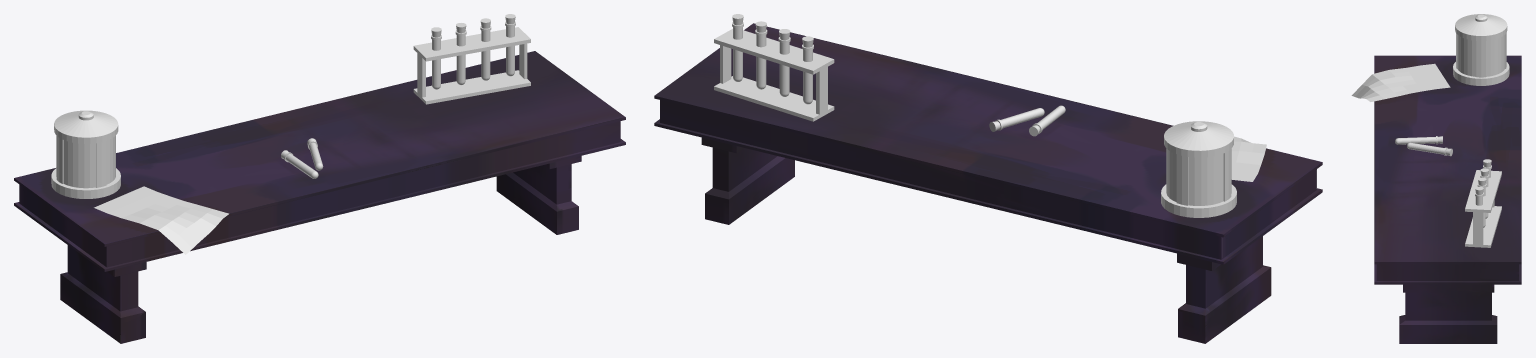
File: jinxcote.glb
3 views of the same model, side by side, from view 1: azimuth 30°, elevation 25°; view 2: azimuth 150°, elevation 25°; view 3: azimuth 270°, elevation 25° (orthographic). The views are drawn at different scales.
Visible parts, largest first — view 1: Cube.006, Cylinder.002, Cube.007, Plane, Sphere; view 2: Cube.006, Cylinder.002, Cube.007, Sphere, Plane, Sphere.001; view 3: Cube.006, Cylinder.002, Plane, Cube.007, Sphere, Sphere.001, Sphere.002.
Boxes of the visible parts, left/top/right/bottom form: Cube.006: left=14, top=51, right=625, bottom=343; Cylinder.002: left=51, top=110, right=120, bottom=198; Cube.007: left=413, top=27, right=530, bottom=104; Plane: left=94, top=186, right=228, bottom=254; Sphere: left=431, top=14, right=515, bottom=89; Cube.006: left=654, top=23, right=1322, bottom=343; Cylinder.002: left=1161, top=121, right=1236, bottom=217; Cube.007: left=714, top=29, right=834, bottom=121; Sphere: left=732, top=14, right=813, bottom=104; Plane: left=1231, top=136, right=1266, bottom=181; Sphere.001: left=989, top=108, right=1044, bottom=131; Cube.006: left=1374, top=55, right=1521, bottom=343; Cylinder.002: left=1453, top=14, right=1509, bottom=85; Plane: left=1351, top=63, right=1450, bottom=101; Cube.007: left=1465, top=170, right=1501, bottom=247; Sphere: left=1475, top=159, right=1491, bottom=227; Sphere.001: left=1407, top=142, right=1452, bottom=156; Sphere.002: left=1395, top=136, right=1442, bottom=144.
Size of the model in its own units: 3.71 by 1.29 by 1.29.
1 material, 1 textured.
